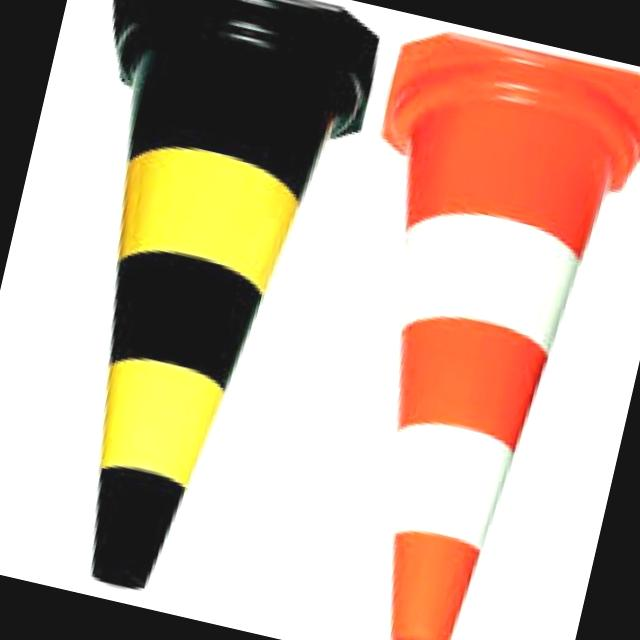cone: (0, 0, 395, 622), (270, 29, 640, 640)
